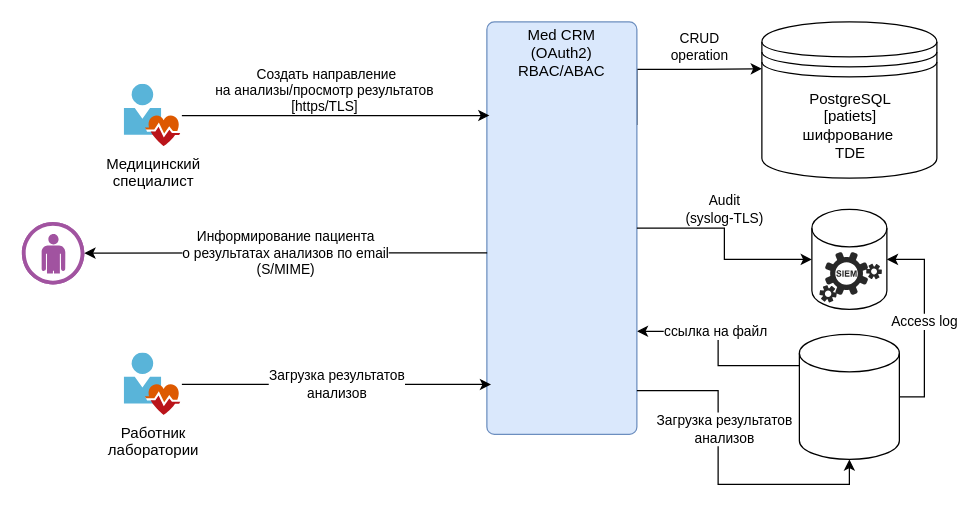
The diagram is 979 pixels wide and 516 high, and some of its shapes have lost their labels. Here are the shapes that lost their labels. From the top down, the box of each, then its label:
(21, 221, 84, 284): Пациент
(798, 333, 899, 459): min.io bucket [lab-results] шифрование SSE-se
